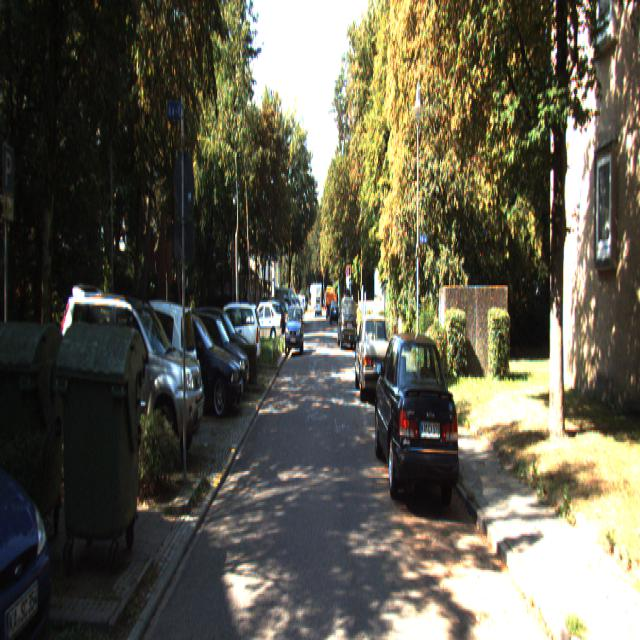Car: (57, 271, 206, 477), (371, 327, 463, 514), (101, 299, 201, 435), (143, 302, 244, 422), (175, 305, 252, 403), (354, 315, 393, 404), (245, 300, 282, 346), (338, 295, 357, 350), (284, 306, 304, 356)
